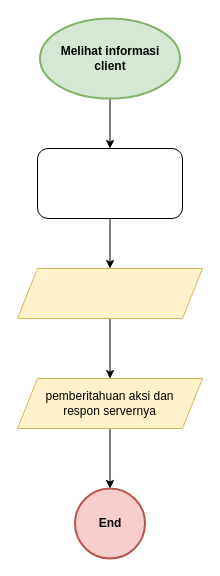
This 220x576 diagram has some shape labels left out. The centre of each missing label's shape, as x and y in pixels:
Staff menekan tombol "edit": [109,183]
Staff mengedit data dan menyimpan perubahan: [109,293]
